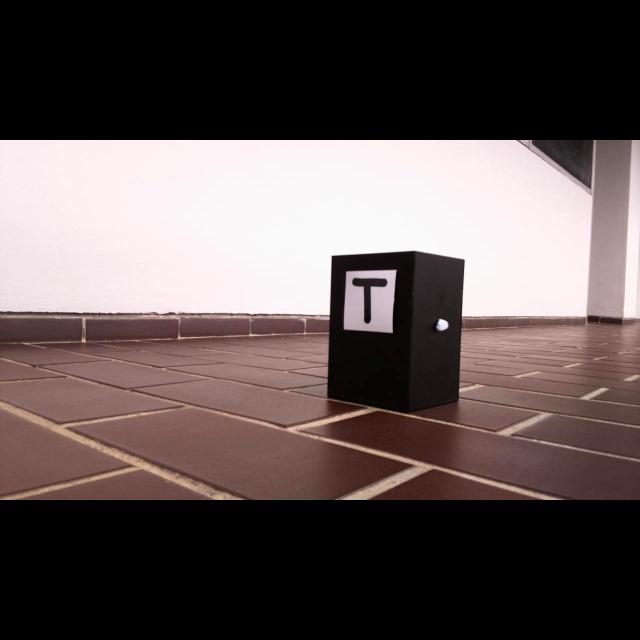T: (351, 278, 387, 324)
